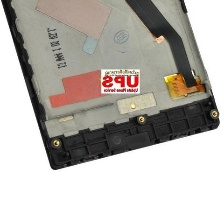phone: (0, 0, 221, 170)
